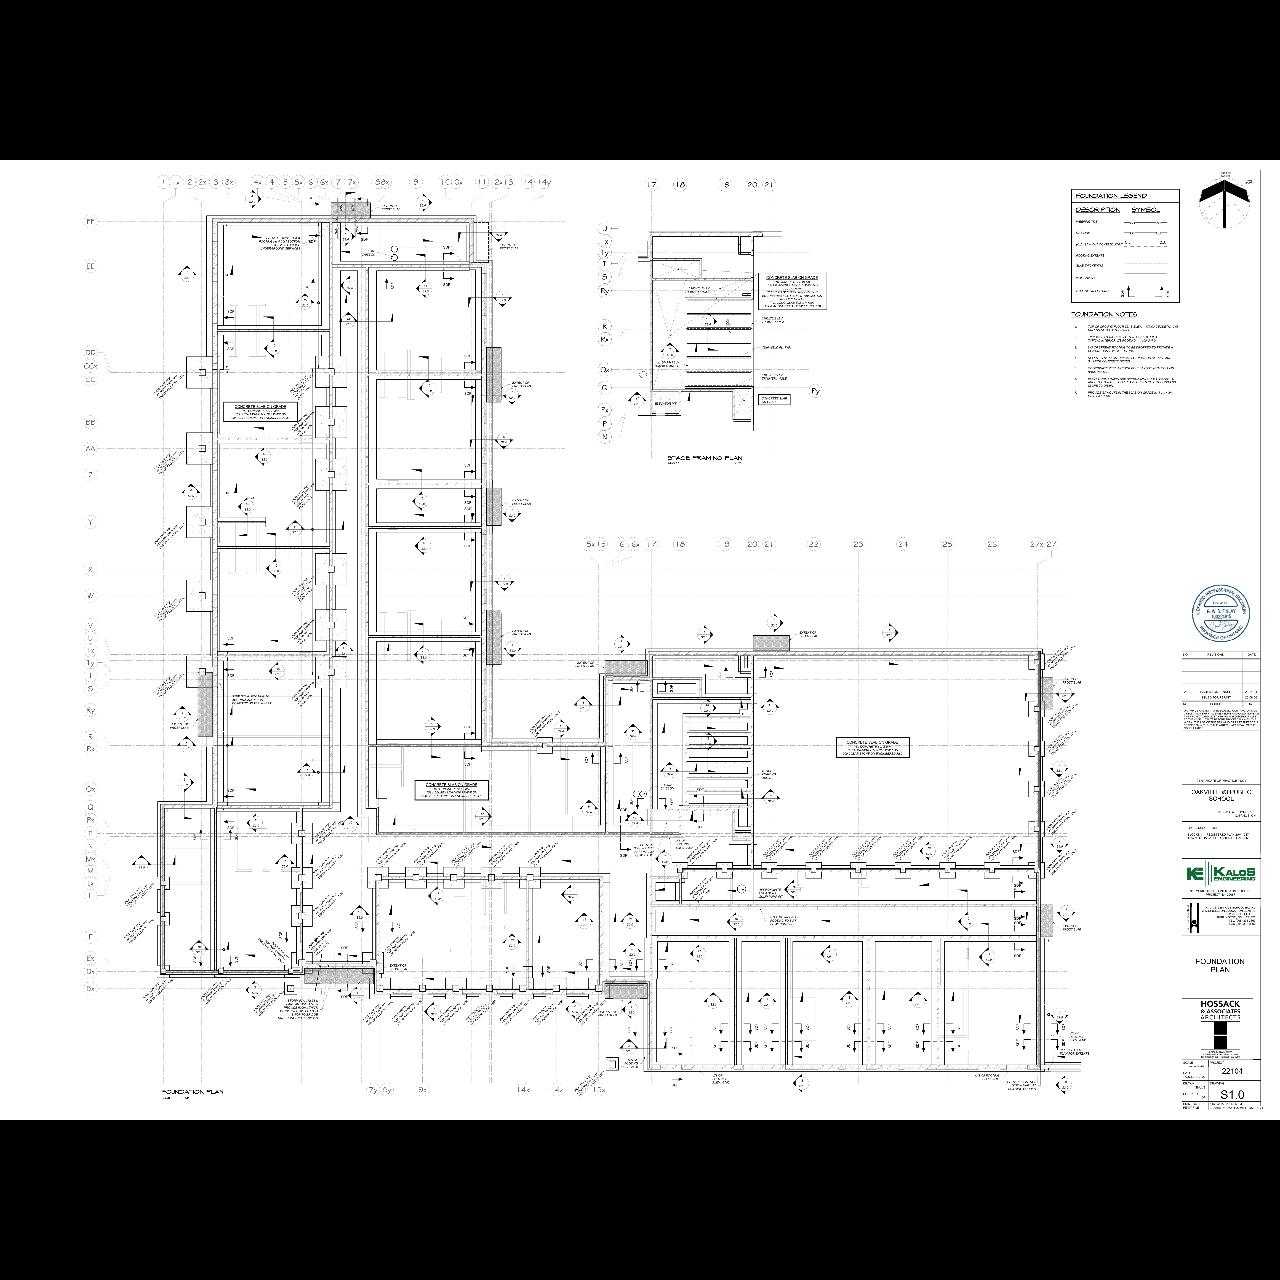detail: (723, 319, 733, 327)
elevation: (879, 621, 900, 644), (761, 787, 783, 808), (756, 990, 778, 1012), (253, 445, 274, 468), (501, 504, 524, 524), (273, 852, 297, 872), (493, 430, 515, 451), (724, 911, 745, 932), (783, 878, 804, 899), (697, 697, 719, 719), (411, 645, 433, 666), (415, 278, 436, 299), (339, 309, 360, 331), (263, 338, 284, 359), (613, 633, 633, 655), (695, 622, 715, 645), (1055, 903, 1077, 922), (423, 1000, 443, 1022), (559, 883, 579, 905), (284, 518, 306, 538), (333, 639, 355, 659), (245, 812, 265, 835), (919, 839, 938, 863), (617, 1039, 641, 1056), (620, 1000, 640, 1021), (572, 694, 593, 714), (552, 717, 572, 738), (760, 697, 781, 717), (956, 911, 976, 932), (838, 989, 859, 1009), (653, 849, 673, 870), (622, 722, 644, 742), (413, 535, 433, 556), (264, 558, 284, 579), (267, 661, 287, 682), (297, 760, 318, 779), (626, 390, 648, 409), (1054, 685, 1076, 703), (1049, 1007, 1071, 1026), (1055, 1074, 1074, 1096), (177, 771, 196, 794), (415, 191, 434, 213), (491, 288, 513, 307), (501, 387, 523, 406), (502, 640, 524, 659), (907, 989, 930, 1008), (689, 942, 708, 965), (659, 761, 681, 779), (624, 810, 646, 829), (339, 226, 358, 248), (188, 939, 210, 958), (349, 903, 369, 922), (700, 312, 719, 333), (765, 612, 784, 633), (1049, 836, 1070, 855), (791, 1073, 810, 1094), (565, 999, 584, 1020), (347, 986, 366, 1007), (131, 853, 152, 872), (171, 703, 192, 722), (181, 482, 202, 501), (177, 264, 198, 282), (489, 225, 510, 244), (495, 573, 516, 592), (978, 946, 996, 967), (702, 990, 723, 1009), (700, 731, 719, 753), (573, 912, 594, 931), (427, 885, 445, 906), (474, 805, 492, 826), (340, 815, 361, 833), (410, 490, 429, 511), (340, 274, 359, 295), (237, 496, 256, 517), (175, 735, 197, 753), (501, 932, 523, 949), (1049, 760, 1069, 778), (620, 911, 640, 930), (579, 798, 599, 817), (660, 342, 681, 360), (245, 980, 263, 1001), (245, 189, 263, 210), (821, 945, 838, 966), (424, 715, 442, 736), (418, 377, 436, 399), (622, 941, 642, 959), (295, 292, 315, 309)
title: (663, 452, 744, 467), (159, 1087, 226, 1102)
